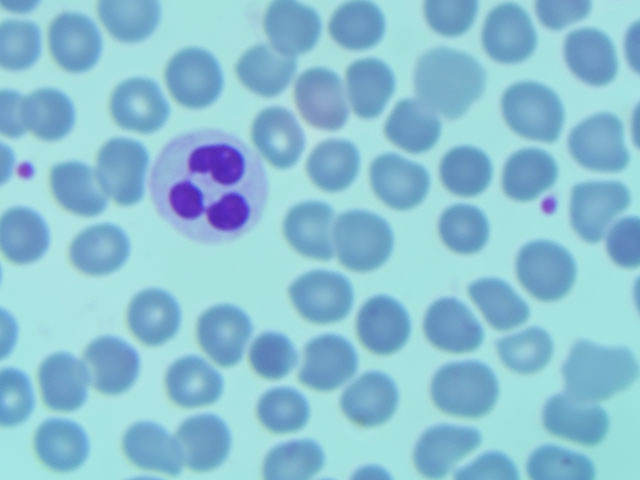Platelets: (11, 159, 37, 185), (536, 193, 560, 216)
RBC: (1, 82, 75, 149), (565, 333, 636, 398), (1, 206, 58, 270), (68, 221, 129, 278), (41, 161, 102, 218), (92, 140, 153, 197), (107, 80, 168, 137), (163, 49, 224, 106), (41, 13, 102, 70), (240, 46, 301, 103), (483, 5, 544, 62), (555, 28, 616, 85), (503, 83, 564, 140), (422, 54, 483, 111), (341, 57, 402, 114), (293, 68, 354, 125), (249, 108, 310, 165), (304, 136, 365, 193), (371, 157, 432, 214), (384, 102, 445, 159), (436, 140, 497, 197), (436, 204, 497, 261), (497, 139, 558, 196), (566, 114, 627, 171), (564, 178, 625, 235), (520, 241, 581, 298), (467, 273, 528, 330), (424, 298, 485, 355), (347, 294, 408, 351), (294, 267, 355, 324), (340, 210, 401, 267), (284, 198, 345, 255), (195, 302, 256, 359), (127, 286, 188, 343), (86, 335, 147, 392), (33, 355, 94, 412), (42, 419, 103, 476), (124, 419, 185, 476), (175, 413, 236, 470), (159, 357, 220, 414), (255, 379, 316, 436), (244, 324, 305, 381), (299, 330, 360, 387), (337, 370, 398, 427), (264, 423, 325, 480), (414, 418, 475, 475), (432, 360, 493, 417), (538, 390, 599, 447), (98, 1, 159, 57), (259, 1, 320, 57), (324, 1, 385, 57), (499, 320, 554, 373), (527, 439, 587, 480), (1, 14, 42, 70), (419, 1, 476, 34)
WBC: (149, 130, 271, 247)
